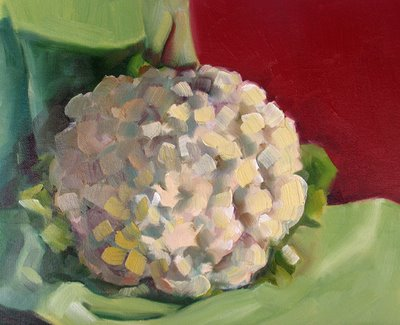cauliflower: (45, 61, 308, 298)
